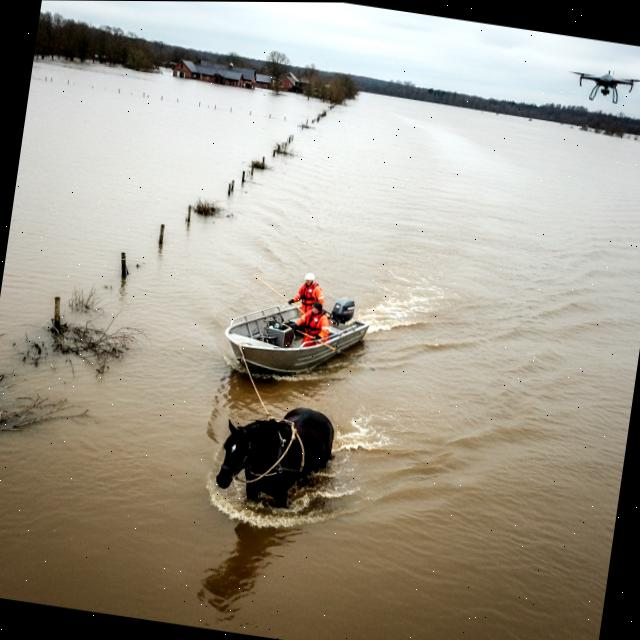horse: (194, 385, 348, 525)
rescuer: (282, 268, 334, 324), (294, 295, 337, 350)
